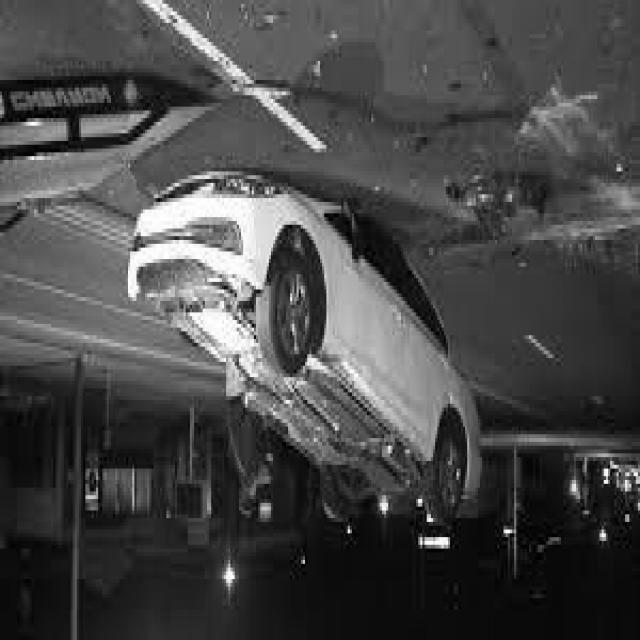severe: (120, 168, 488, 544)
